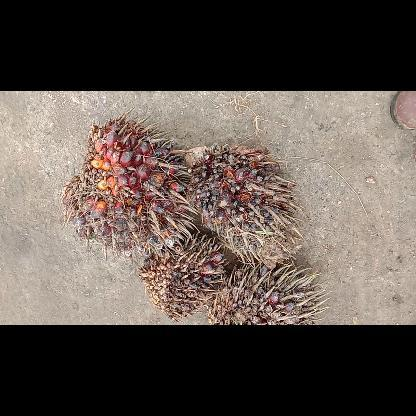TBS abnormal: (182, 144, 296, 264), (143, 228, 225, 318), (208, 266, 326, 324)
TBS masak: (59, 117, 191, 247)
